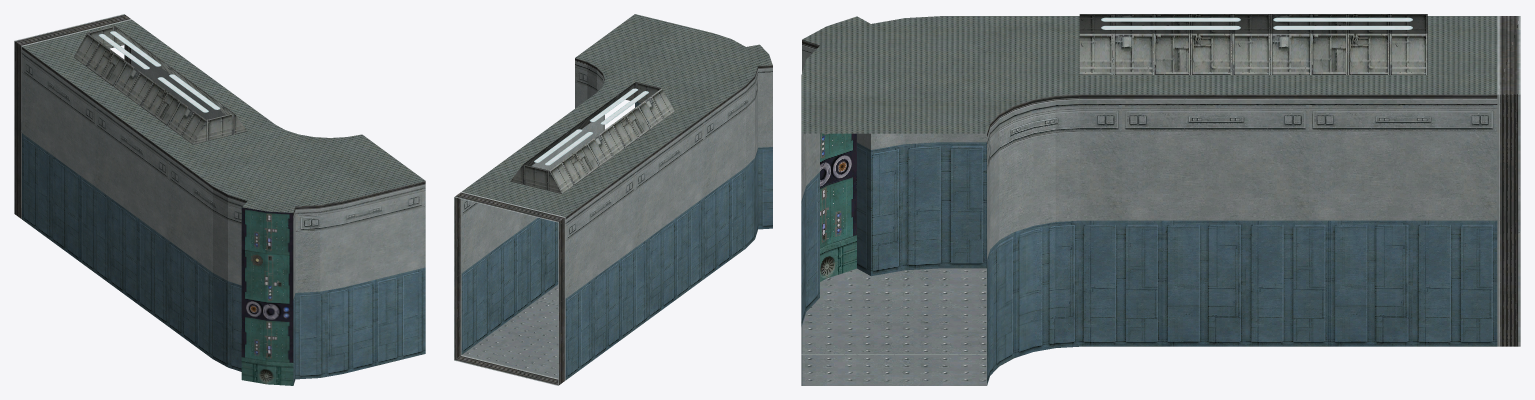
File: ply_tato_hospital_s01_r2_corner_mesh_r2.fbx
The picture shows the model from 3 angles, left to right: view 1: azimuth 30°, elevation 25°; view 2: azimuth 150°, elevation 25°; view 3: azimuth 270°, elevation 25°; orthographic projection. The views are drawn at different scales.
Parts seen in each view (by area): view 1: mesh_node; view 2: mesh_node; view 3: mesh_node.
Boxes of the visible parts, <box> form: mesh_node: <box>14,14,425,385</box>; mesh_node: <box>454,14,772,385</box>; mesh_node: <box>801,14,1520,385</box>.
Bounding box in the file's own units: 3 × 3.38 × 7.75.
